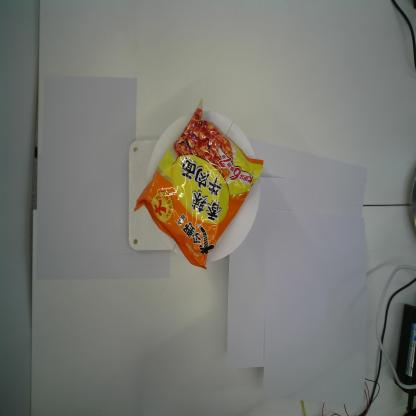Instant Noodles: (133, 98, 264, 269)
